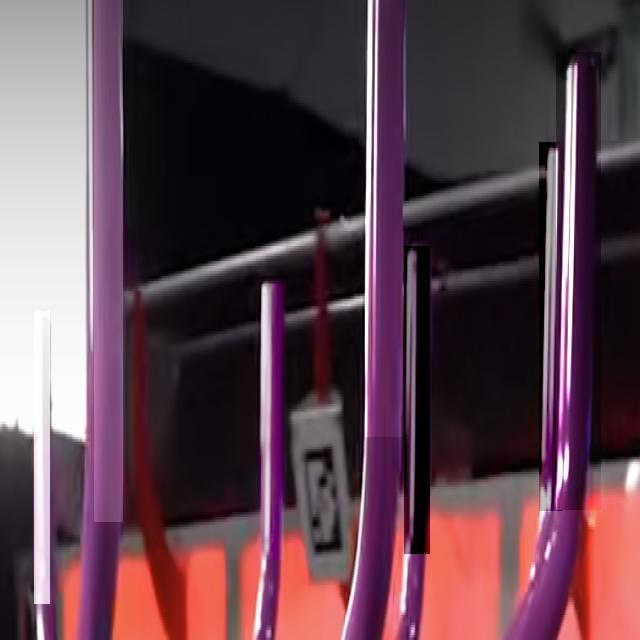Reef: (556, 52, 601, 510), (365, 0, 403, 437), (94, 0, 123, 522), (539, 142, 563, 511), (404, 246, 430, 554), (260, 282, 284, 560), (34, 311, 50, 604)
